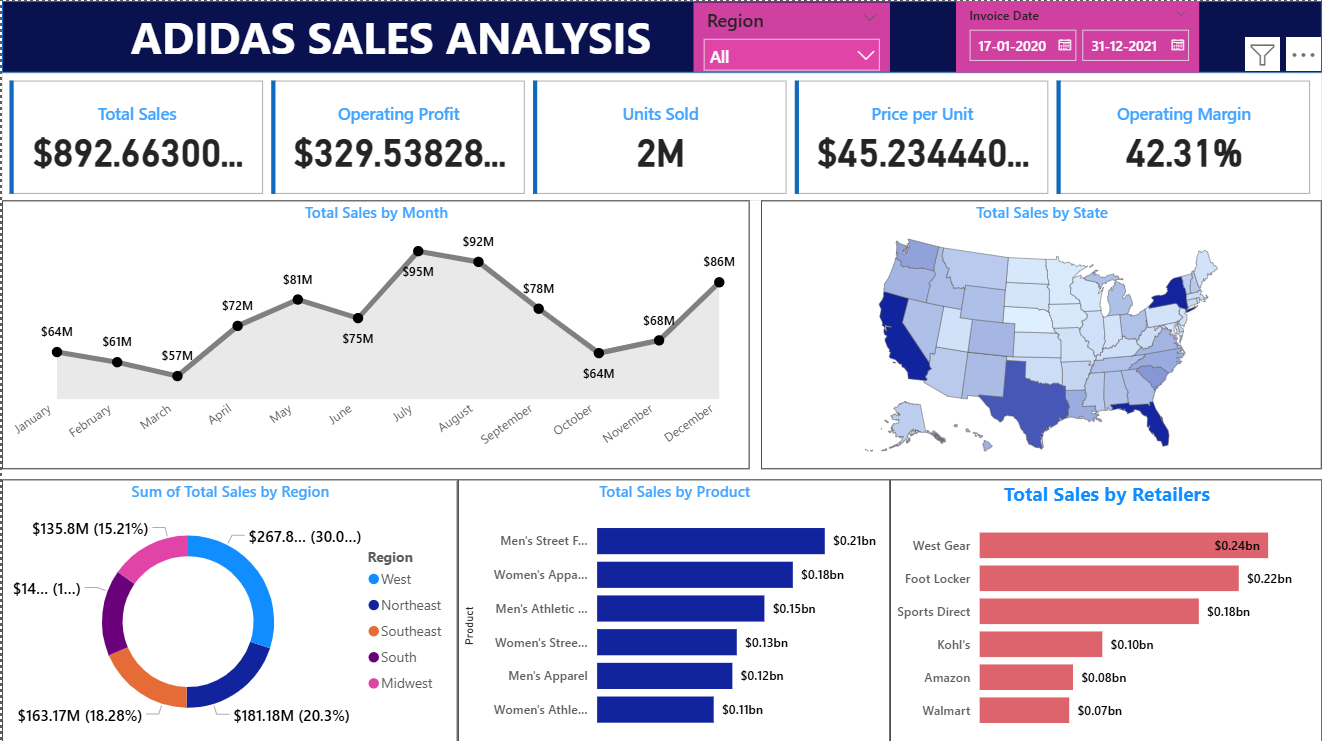

The dashboard page shown, as its layout file describes it:
{"tool":"powerbi","page":{"name":"Page 1","canvas":[1280,720],"ordinal":0},"visuals":[{"type":"shape","box":[0,0,1280.8,69.6],"z":0},{"type":"textbox","box":[84.2,0,586.2,69.6],"z":1000},{"type":"cardVisual","fields":{"Data":["Sum(Data Sales Adidas.Total Sales)","Sum(Data Sales Adidas.Operating Profit)","Sum(Data Sales Adidas.Units Sold)","Avg(Data Sales Adidas.Price per Unit)","Avg(Data Sales Adidas.Operating Margin)"]},"box":[0,69.6,1280.8,124.7],"z":2000},{"type":"areaChart","title":"Total Sales by Month","fields":{"Category":["Data Sales Adidas.Invoice Date.Variation.Date Hierarchy.Month"],"Y":["Sum(Data Sales Adidas.Total Sales)"]},"box":[0,194.3,725.4,260.7],"z":3000},{"type":"shapeMap","title":"Total Sales by State","fields":{"Value":["Sum(Data Sales Adidas.Total Sales)"],"Category":["Data Sales Adidas.State"]},"box":[736.7,194.3,544.1,260.7],"z":4000},{"type":"donutChart","fields":{"Y":["Sum(Data Sales Adidas.Total Sales)"],"Category":["Data Sales Adidas.Region"]},"box":[0,464.7,442,255.8],"z":5000},{"type":"clusteredBarChart","title":" Total Sales by Product","fields":{"Category":["Data Sales Adidas.Product"],"Y":["Sum(Data Sales Adidas.Total Sales)"]},"box":[442,464.7,419.4,255.8],"z":6000},{"type":"clusteredBarChart","title":" Total Sales by Retailers","fields":{"Category":["Data Sales Adidas.Retailer"],"Y":["Sum(Data Sales Adidas.Total Sales)"]},"box":[861.4,464.7,419.4,255.8],"z":7000},{"type":"slicer","fields":{"Values":["Data Sales Adidas.Region"]},"box":[670.4,2,190.8,67.3],"z":8000},{"type":"slicer","fields":{"Values":["Data Sales Adidas.Invoice Date"]},"box":[925.5,0,235.7,69.4],"z":9000}]}

Visuals, with their boxes in screenshot pixels (x1, y1, x2, y2), scaled from the page's 1280x720 canvas onto the 1322x741 screenshot:
shape: bbox(0, 0, 1321, 72)
textbox: bbox(87, 0, 692, 72)
cardVisual - Sum(Data Sales Adidas.Total Sales) x Sum(Data Sales Adidas.Operating Profit): bbox(0, 72, 1321, 200)
"Total Sales by Month" areaChart: bbox(0, 200, 749, 468)
"Total Sales by State" shapeMap: bbox(761, 200, 1321, 468)
donutChart - Sum(Data Sales Adidas.Total Sales) x Data Sales Adidas.Region: bbox(0, 478, 457, 740)
" Total Sales by Product" clusteredBarChart: bbox(457, 478, 890, 740)
" Total Sales by Retailers" clusteredBarChart: bbox(890, 478, 1321, 740)
slicer - Data Sales Adidas.Region: bbox(692, 2, 889, 71)
slicer - Data Sales Adidas.Invoice Date: bbox(956, 0, 1199, 71)
